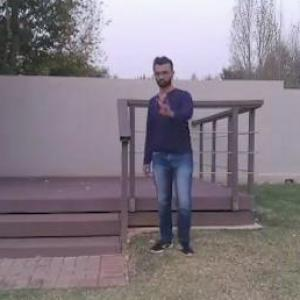takeoff-hand: (150, 90, 181, 125)
